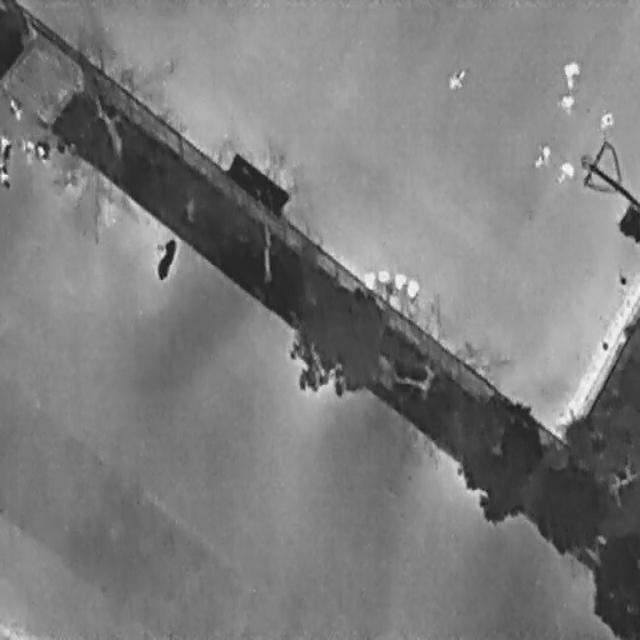Bicycle: (148, 228, 181, 284)
Person: (531, 138, 554, 172), (553, 155, 578, 186), (562, 55, 578, 91), (597, 106, 615, 135), (447, 65, 465, 89), (34, 138, 49, 164), (558, 91, 573, 114), (18, 139, 33, 160), (0, 136, 11, 164), (9, 95, 21, 120), (0, 162, 11, 188)
